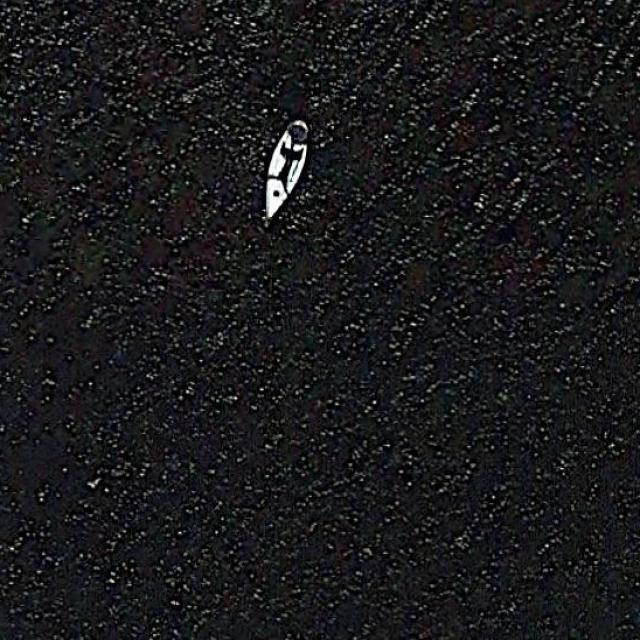ship: (263, 118, 312, 224)
